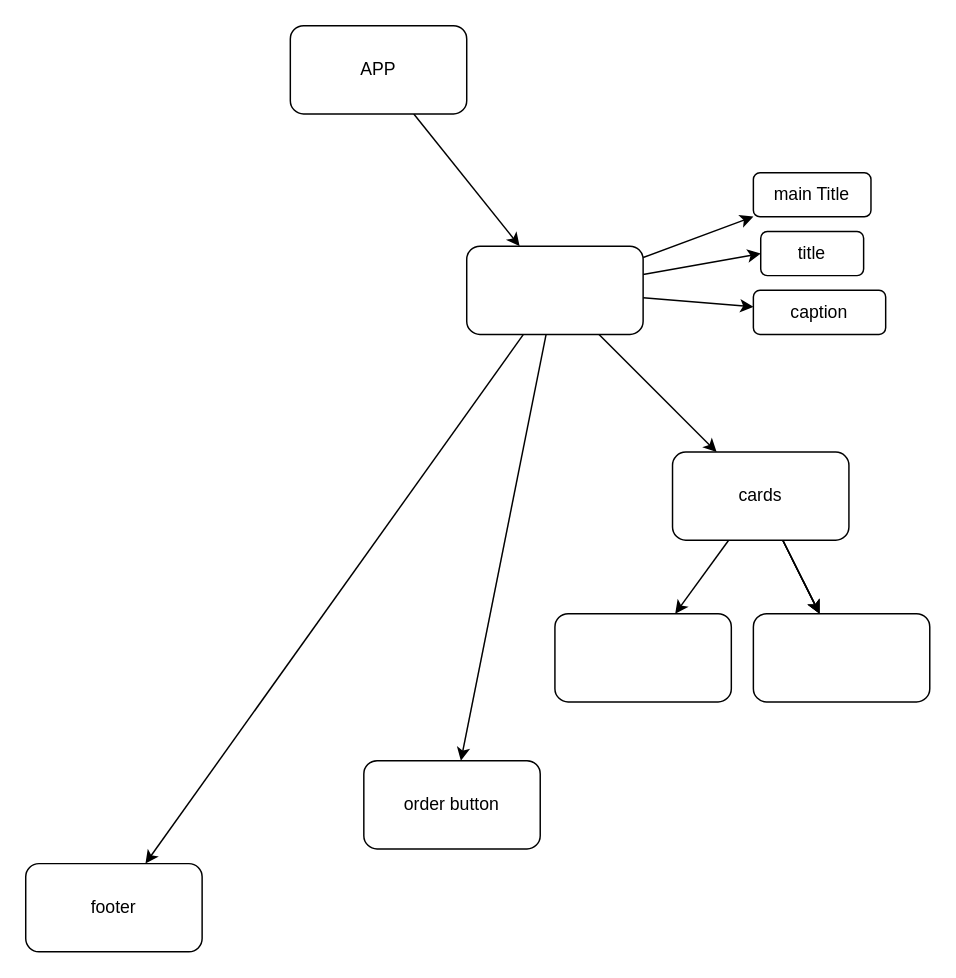
The diagram is 956 pixels wide and 978 high, and some of its shapes have lost their labels. Here are the shapes that lost their labels. From the top down, the centre of each, then its label:
At point (554, 289): "order page".
At point (642, 657): "oob for dishes".
At point (841, 657): "cards ui component".
